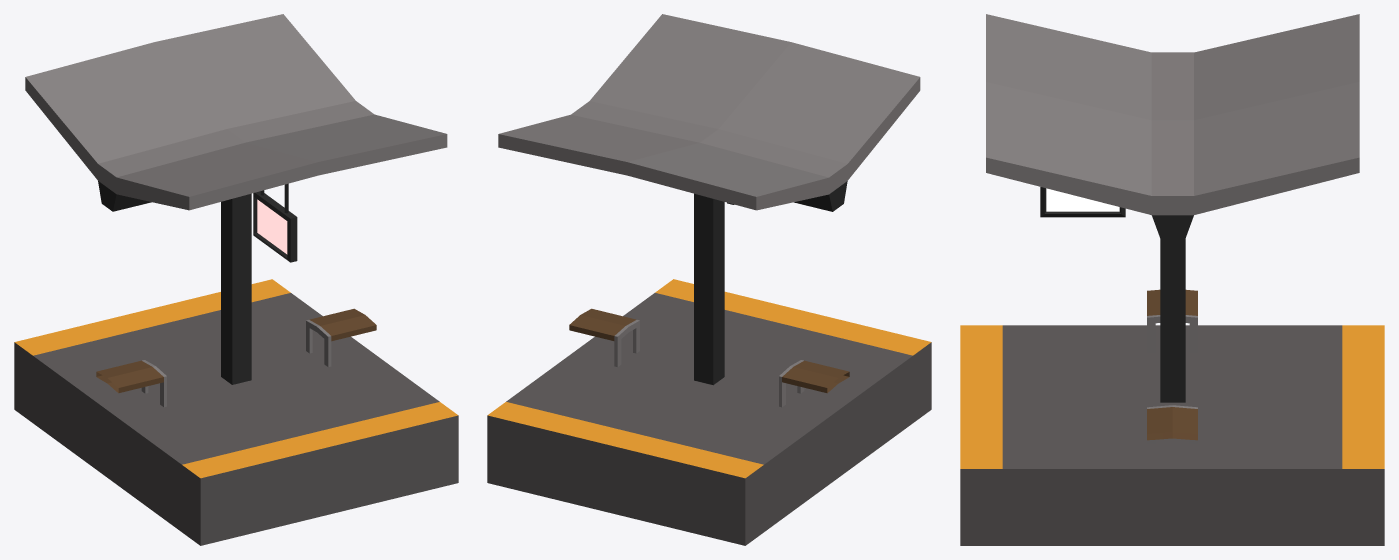
The model's file is buildings_train-station-platform-sign-small.fbx.
The picture shows the model from 3 angles, left to right: view 1: azimuth 30°, elevation 25°; view 2: azimuth 150°, elevation 25°; view 3: azimuth 270°, elevation 25°; orthographic projection. The views are drawn at different scales.
Parts seen in each view (by area): view 1: buildings_train_station_platform_sign_small; view 2: buildings_train_station_platform_sign_small; view 3: buildings_train_station_platform_sign_small.
Part boxes in pixels (left/top/right/bottom): buildings_train_station_platform_sign_small: left=14, top=14, right=458, bottom=545; buildings_train_station_platform_sign_small: left=487, top=14, right=931, bottom=545; buildings_train_station_platform_sign_small: left=960, top=14, right=1384, bottom=545.
Bounding box in the file's own units: 157 × 200 × 196.
